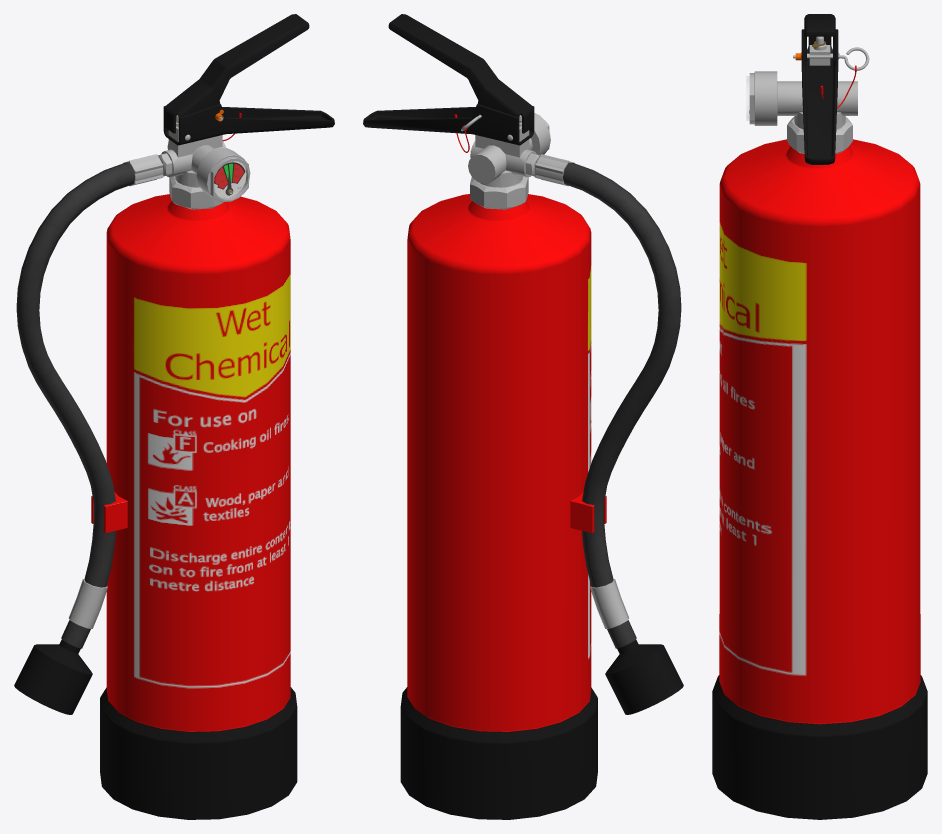
The model's file is wet_chemical_silinder.glb.
3 views of the same model, side by side, from view 1: azimuth 30°, elevation 25°; view 2: azimuth 150°, elevation 25°; view 3: azimuth 270°, elevation 25° (orthographic). The views are drawn at different scales.
Visible parts, largest first — view 1: Wet_Chemical_Fire_Extinguisher:pCylinder1, Wet_Chemical_Fire_Extinguisher:polySurface20, Wet_Chemical_Fire_Extinguisher:Water_Mist_Fire_Extinguishe:p, Wet_Chemical_Fire_Extinguisher:pPipe1, Wet_Chemical_Fire_Extinguisher:Water_Mist_Fire_Extinguishe:P, Wet_Chemical_Fire_Extinguisher:polySurface23, Wet_Chemical_Fire_Extinguisher:polySurface24, Wet_Chemical_Fire_Extinguisher:polySurface17_Wet_Chemical_Fi, Wet_Chemical_Fire_Extinguisher:pCylinder10, Wet_Chemical_Fire_Extinguisher:pCube2, Wet_Chemical_Fire_Extinguisher:polySurface14; view 2: Wet_Chemical_Fire_Extinguisher:pCylinder1, Wet_Chemical_Fire_Extinguisher:polySurface20, Wet_Chemical_Fire_Extinguisher:Water_Mist_Fire_Extinguishe:p, Wet_Chemical_Fire_Extinguisher:pPipe1, Wet_Chemical_Fire_Extinguisher:Water_Mist_Fire_Extinguishe:P, Wet_Chemical_Fire_Extinguisher:polySurface23, Wet_Chemical_Fire_Extinguisher:pCylinder10, Wet_Chemical_Fire_Extinguisher:pCube2, Wet_Chemical_Fire_Extinguisher:polySurface14; view 3: Wet_Chemical_Fire_Extinguisher:pCylinder1, Wet_Chemical_Fire_Extinguisher:Water_Mist_Fire_Extinguishe:P, Wet_Chemical_Fire_Extinguisher:polySurface23, Wet_Chemical_Fire_Extinguisher:Water_Mist_Fire_Extinguishe:p, Wet_Chemical_Fire_Extinguisher:pCylinder10.
Part boxes in pixels (<box>): Wet_Chemical_Fire_Extinguisher:pCylinder1: <box>100,194,297,819</box>; Wet_Chemical_Fire_Extinguisher:polySurface20: <box>16,163,134,648</box>; Wet_Chemical_Fire_Extinguisher:Water_Mist_Fire_Extinguishe:p: <box>164,14,309,133</box>; Wet_Chemical_Fire_Extinguisher:pPipe1: <box>14,639,92,714</box>; Wet_Chemical_Fire_Extinguisher:Water_Mist_Fire_Extinguishe:P: <box>163,104,334,145</box>; Wet_Chemical_Fire_Extinguisher:polySurface23: <box>161,126,250,201</box>; Wet_Chemical_Fire_Extinguisher:polySurface24: <box>210,157,248,201</box>; Wet_Chemical_Fire_Extinguisher:polySurface17_Wet_Chemical_Fi: <box>214,162,249,199</box>; Wet_Chemical_Fire_Extinguisher:pCylinder10: <box>169,176,223,209</box>; Wet_Chemical_Fire_Extinguisher:pCube2: <box>91,492,127,533</box>; Wet_Chemical_Fire_Extinguisher:polySurface14: <box>123,154,163,186</box>; Wet_Chemical_Fire_Extinguisher:pCylinder1: <box>400,194,597,819</box>; Wet_Chemical_Fire_Extinguisher:polySurface20: <box>563,163,681,648</box>; Wet_Chemical_Fire_Extinguisher:Water_Mist_Fire_Extinguishe:p: <box>388,14,533,133</box>; Wet_Chemical_Fire_Extinguisher:pPipe1: <box>605,639,683,714</box>; Wet_Chemical_Fire_Extinguisher:Water_Mist_Fire_Extinguishe:P: <box>363,104,534,145</box>; Wet_Chemical_Fire_Extinguisher:polySurface23: <box>468,114,550,187</box>; Wet_Chemical_Fire_Extinguisher:pCylinder10: <box>470,176,528,209</box>; Wet_Chemical_Fire_Extinguisher:pCube2: <box>570,492,606,533</box>; Wet_Chemical_Fire_Extinguisher:polySurface14: <box>534,154,574,186</box>; Wet_Chemical_Fire_Extinguisher:pCylinder1: <box>712,139,927,819</box>; Wet_Chemical_Fire_Extinguisher:Water_Mist_Fire_Extinguishe:P: <box>801,29,838,164</box>; Wet_Chemical_Fire_Extinguisher:polySurface23: <box>754,45,857,129</box>; Wet_Chemical_Fire_Extinguisher:Water_Mist_Fire_Extinguishe:p: <box>804,14,835,61</box>; Wet_Chemical_Fire_Extinguisher:pCylinder10: <box>787,117,852,153</box>.
Size of the model in its own units: 0.3048 by 0.6859 by 0.1674.
Materials: 2 (1 with a texture image).
